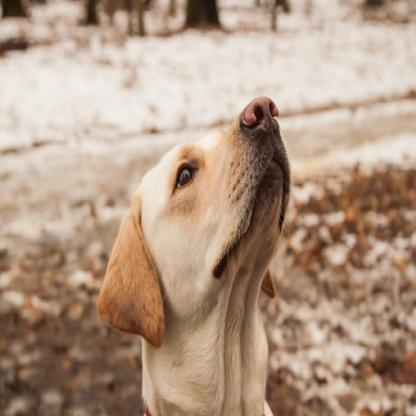dog: (101, 88, 290, 416)
